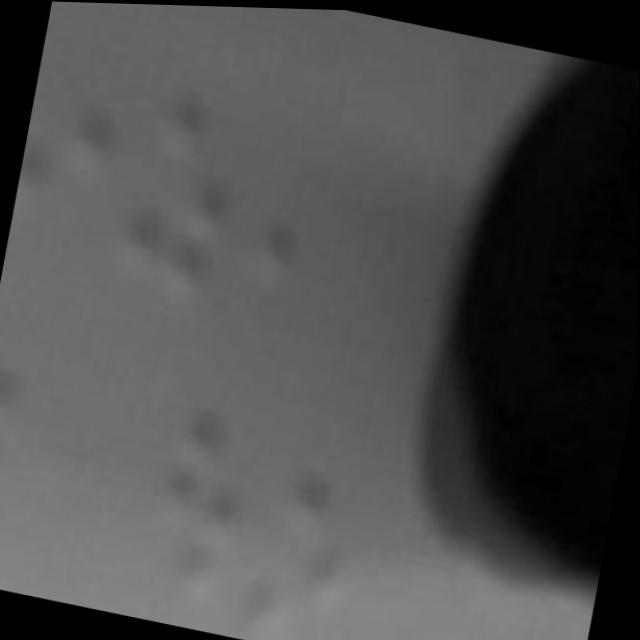braiile: (112, 71, 263, 318), (11, 9, 142, 243), (137, 400, 276, 612), (0, 281, 51, 512)
